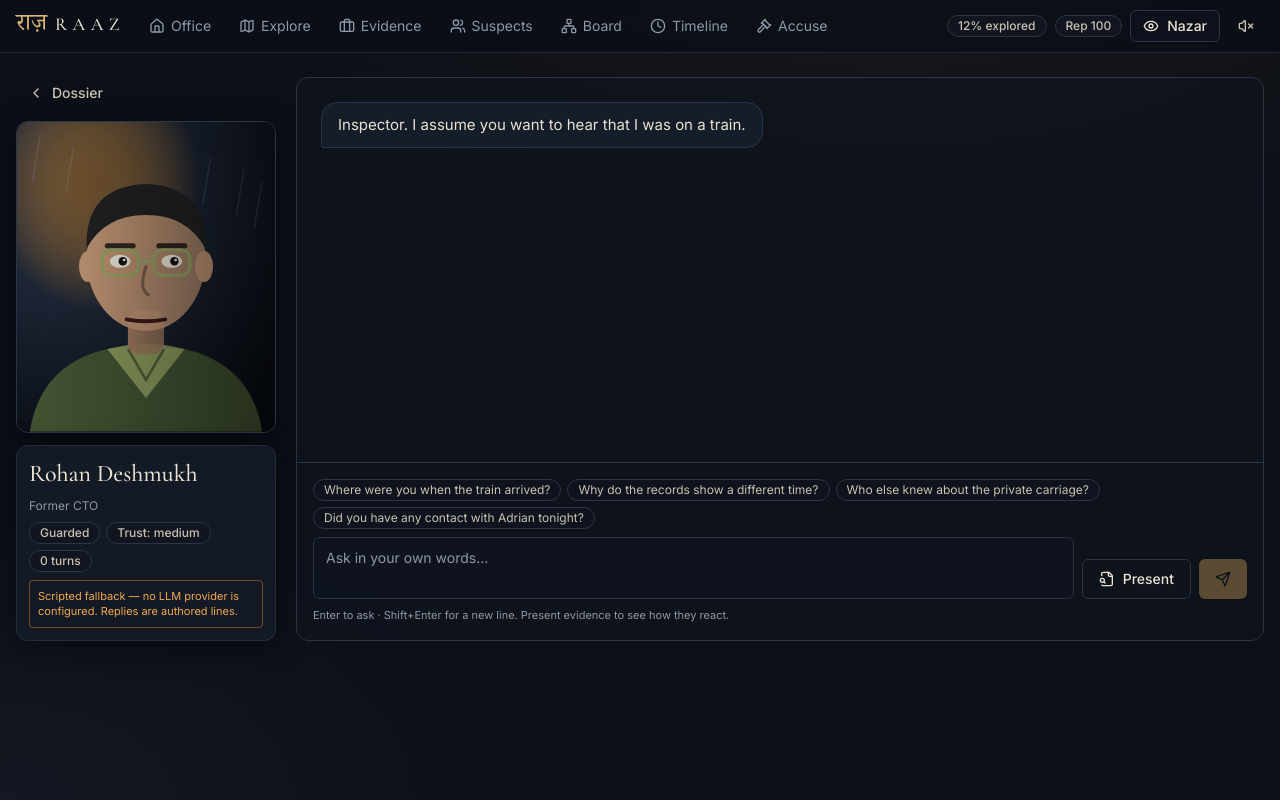
Test case: interrogation › presents evidence and surfaces a contradiction
Expected: the text "Inspector. I assume you want to hear that I was on a train." is shown, [338,115,746,134]
Click the button with aria-label "Choose evidence to present": (1136, 579) [1082,559,1191,599]
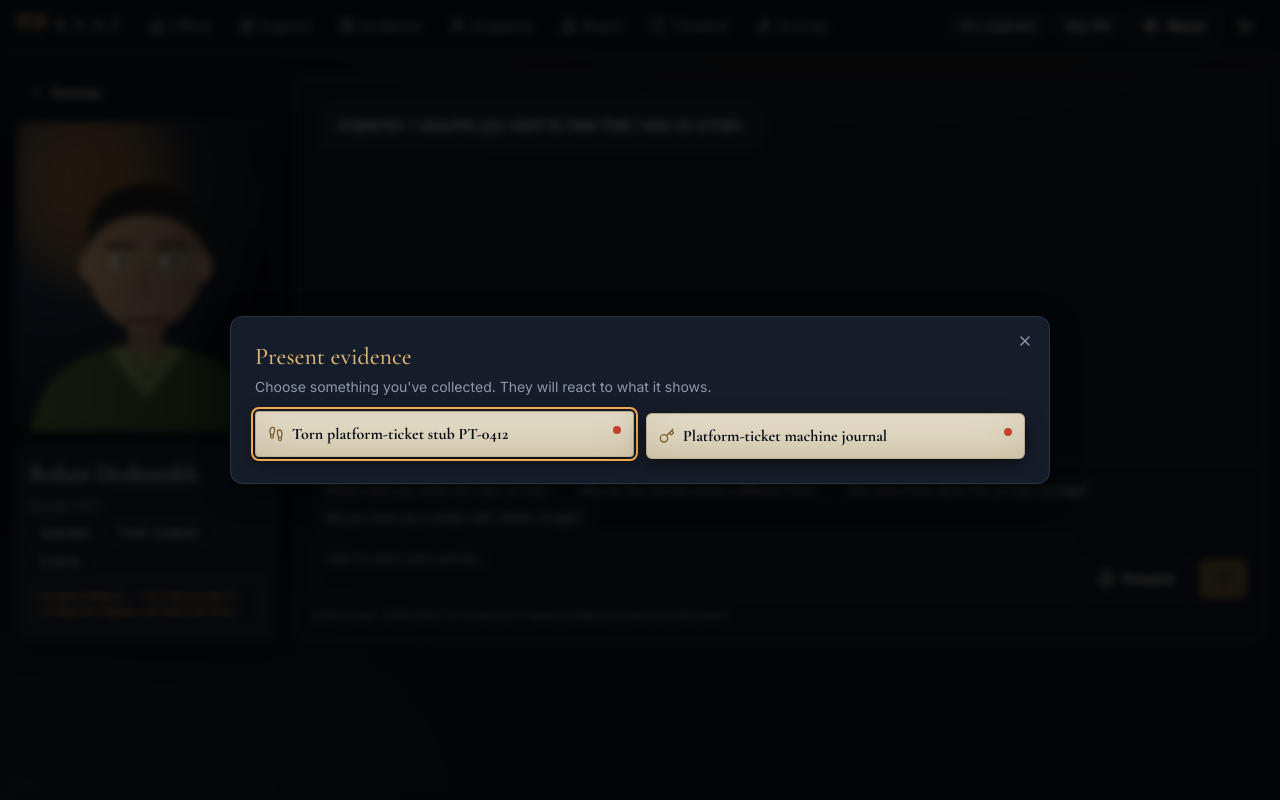
Click the button "Torn platform-ticket stub PT-0412": (444, 434) [255,411,634,457]
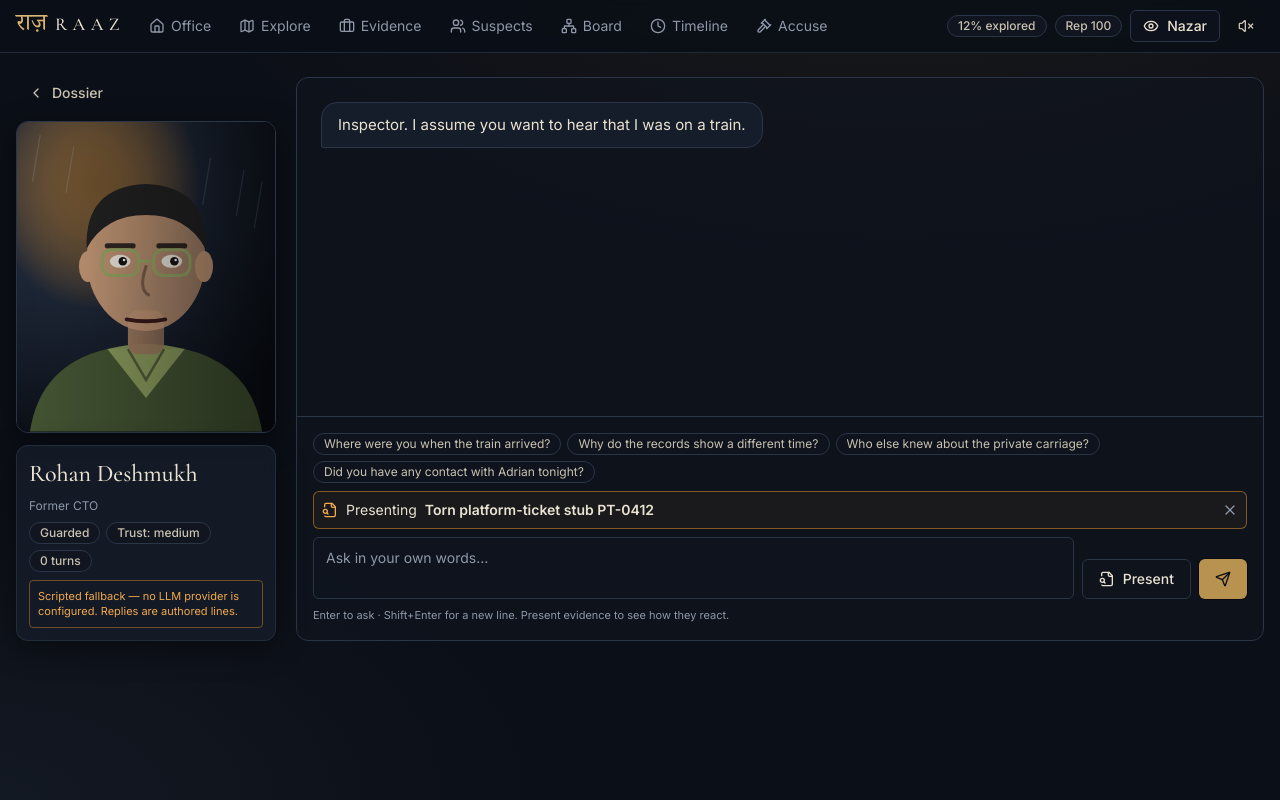
Now the text "Presenting Torn platform-ticket stub PT-0412" is shown, box [313,491,1247,529]
In the text box named "Your question": (693, 568) [313,537,1074,599], type "Explain this."
Then press Enter
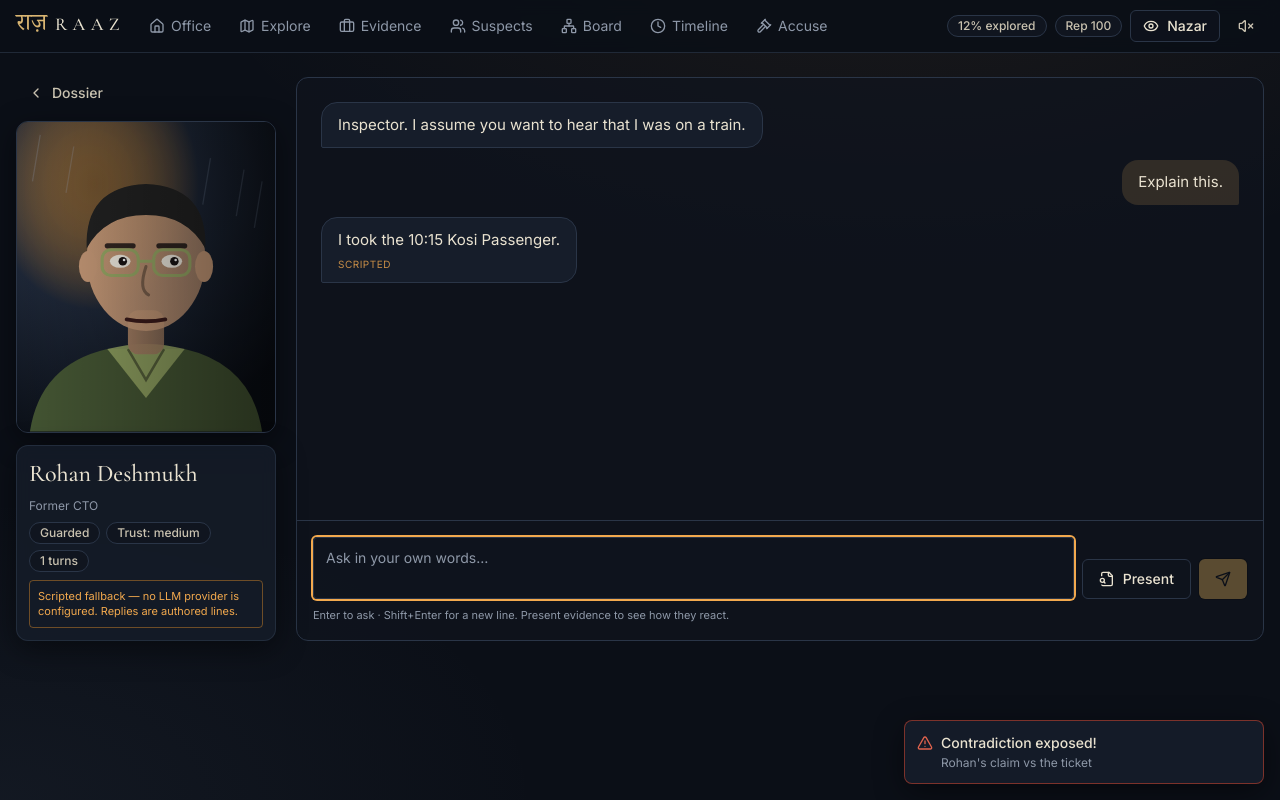
Now the text "Contradiction exposed!" is shown, box [941,733,1097,753]
